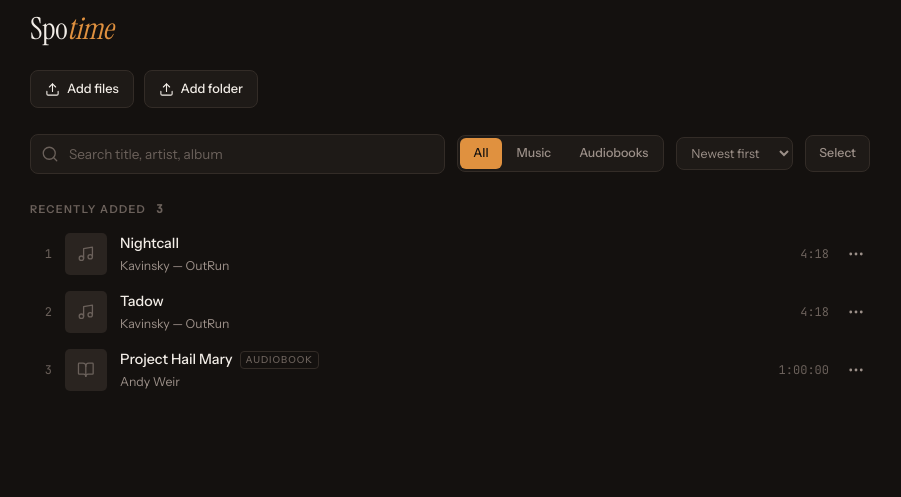
it: select mode › counts the selection as tracks are ticked and unticked
Expected: the text "Nightcall" is shown, [120, 234, 179, 252]
Click the button "Select" at (838, 154), box [805, 135, 870, 172]
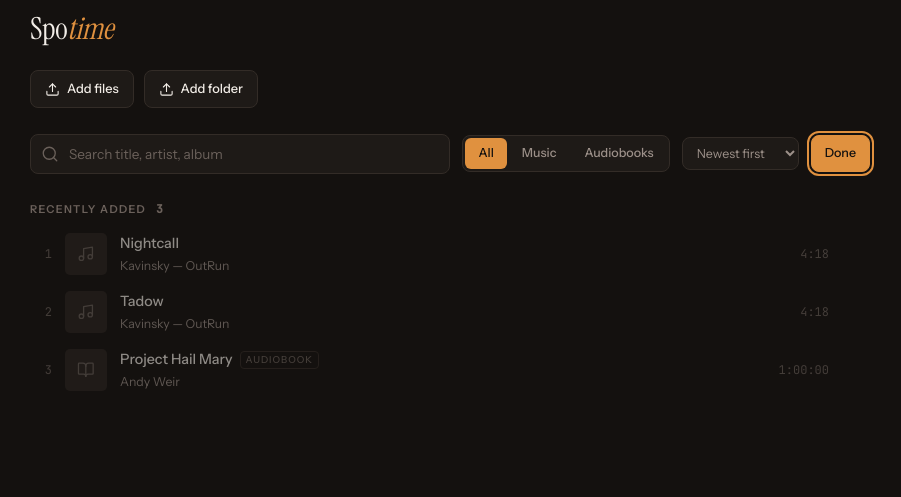
Expected: the button "Done" is pressed, [811, 135, 870, 172]
Click the checkbox named "Select Nightcall" at (450, 254), box [20, 225, 880, 283]
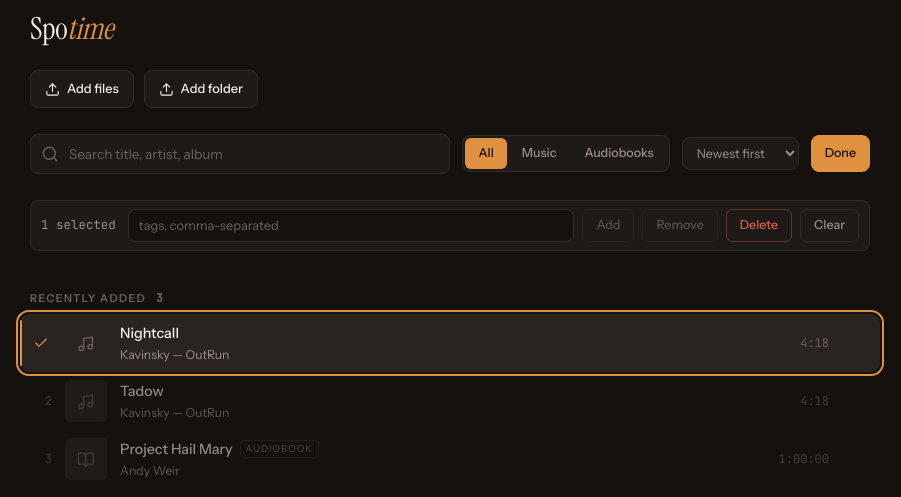
Click the checkbox named "Select Tadow" at (450, 402), box [20, 372, 880, 430]
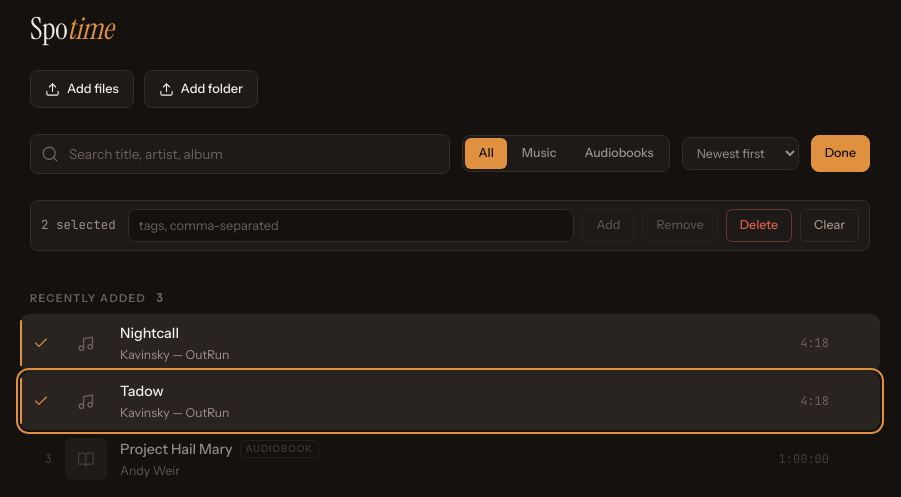
Expected: the text "2 selected" is shown, [41, 216, 116, 235]
Click the checkbox named "Select Tadow" at (450, 402), box [20, 372, 880, 430]
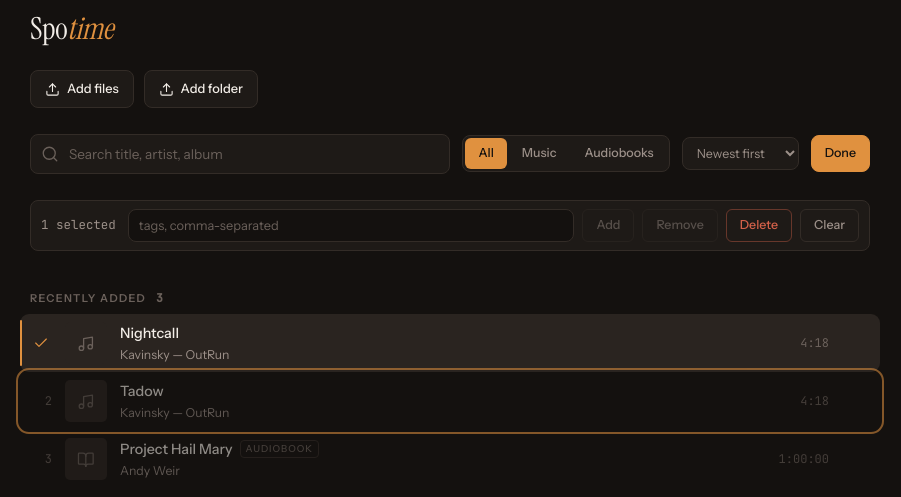
Expected: the text "1 selected" is shown, [41, 216, 116, 235]
Click the button "Done" at (840, 154), box [811, 135, 870, 172]
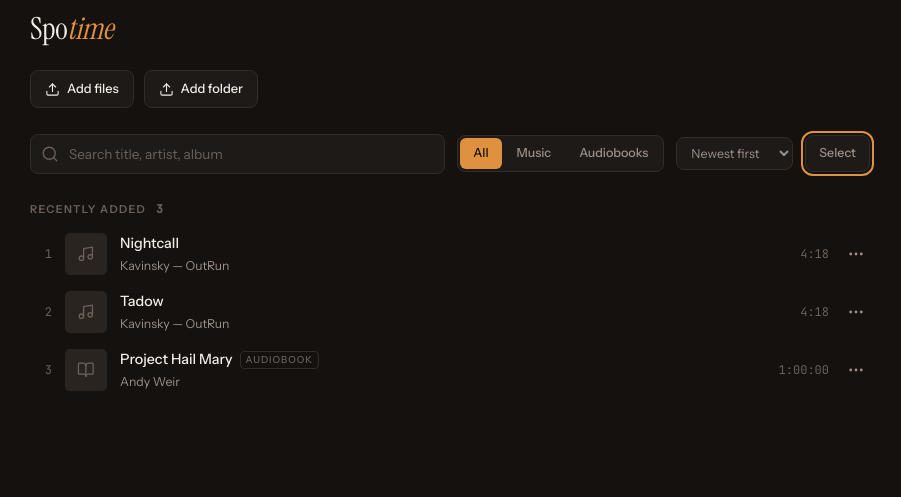
Expected: the checkbox is gone
